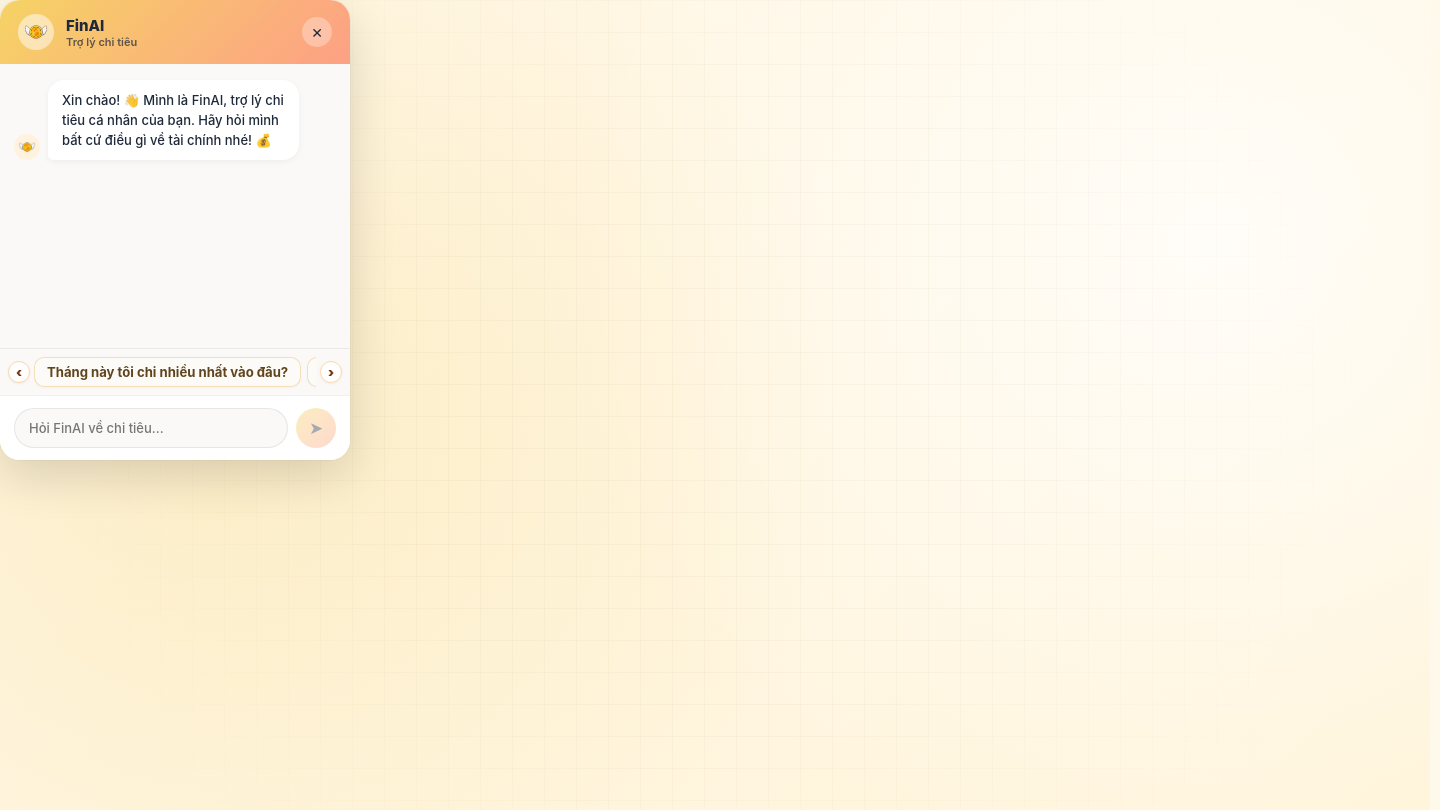
Test: ChatPopup session persistence and user interactions › saves new user query and AI reply to localStorage
Type "Tôi đã tiết kiệm được bao nhiêu?" into the field with placeholder "Hỏi FinAI về chi tiêu..." at [151, 428], box [14, 408, 288, 448]
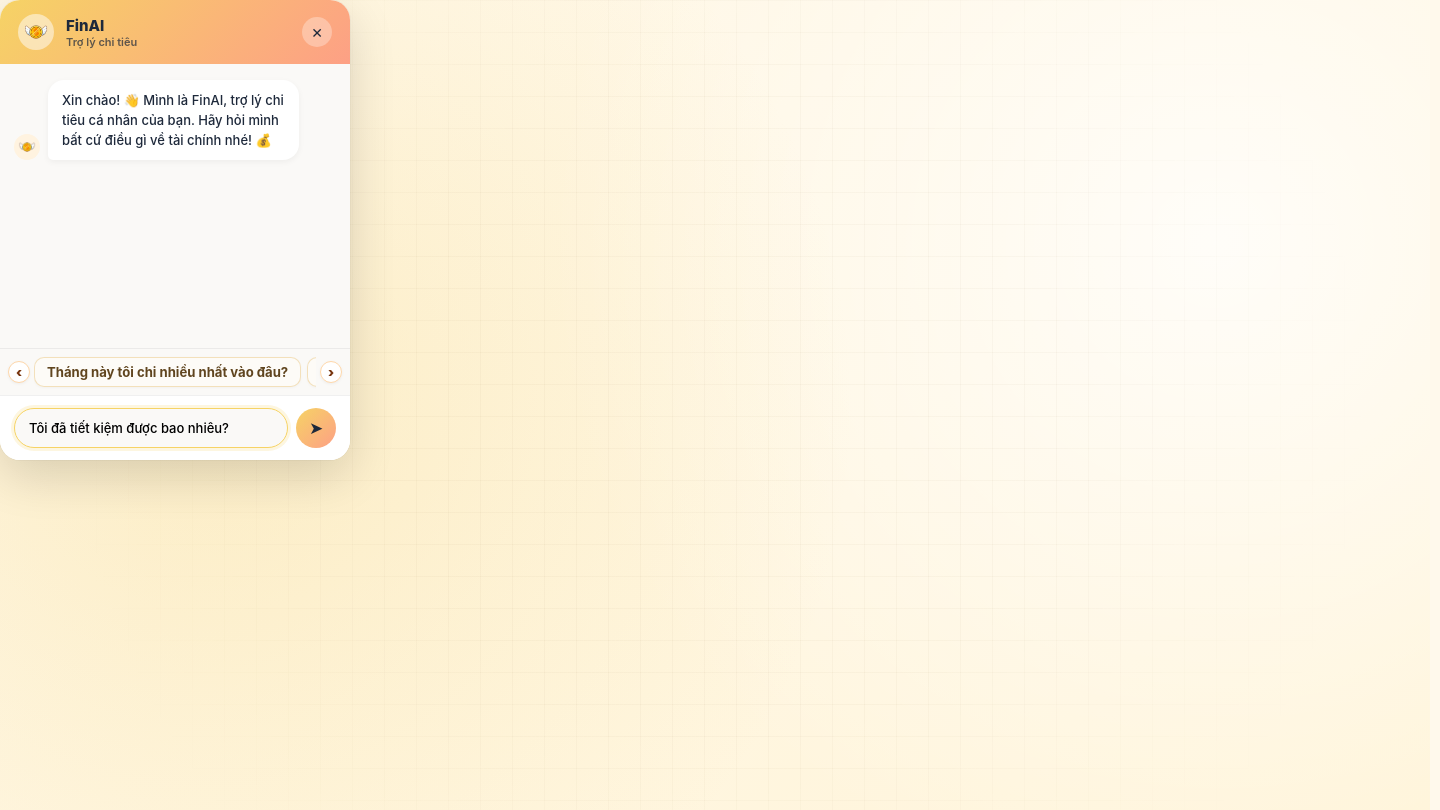
Click the button named "Gửi tin nhắn" at [316, 428], box [296, 408, 336, 448]
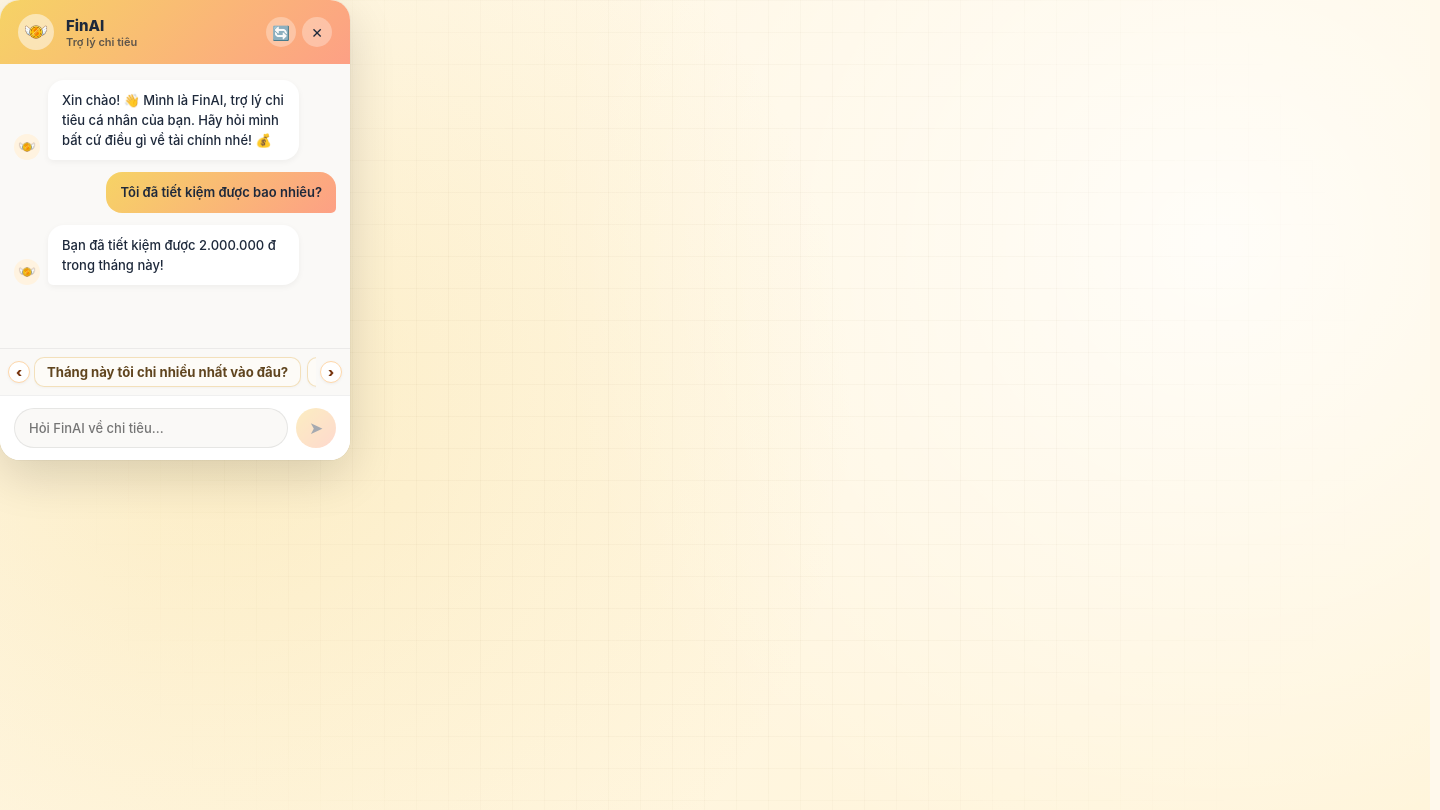
Expected: the text "Tôi đã tiết kiệm được bao nhiêu?" is shown, [120, 182, 322, 202]
Expected: the text "Bạn đã tiết kiệm được 2.000.000 đ trong tháng này!" is shown, [62, 235, 285, 275]
